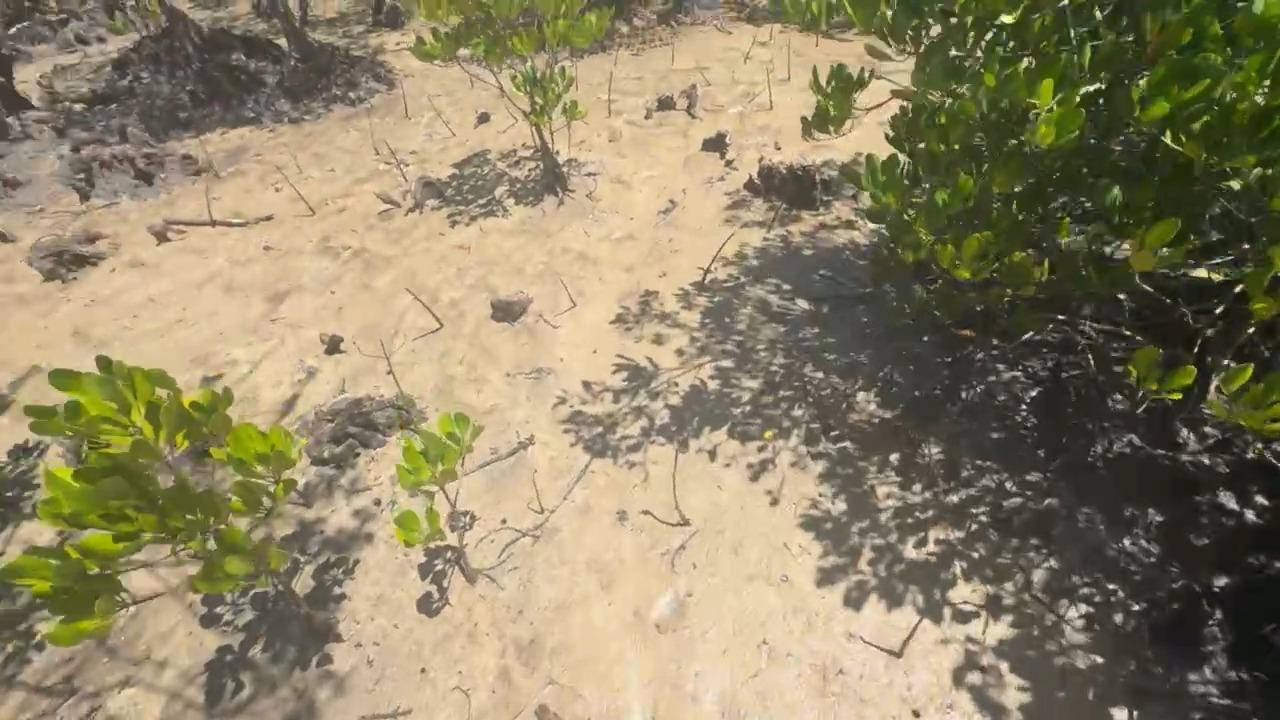Tree: (394, 411, 486, 583), (898, 596, 943, 660), (700, 230, 737, 286), (275, 166, 316, 215), (406, 287, 444, 328), (673, 446, 692, 525), (380, 340, 403, 395), (428, 95, 456, 137), (384, 140, 407, 183), (199, 135, 221, 179), (366, 105, 380, 154), (766, 200, 785, 234), (559, 276, 578, 308), (204, 185, 216, 226), (533, 475, 544, 515), (745, 30, 757, 64), (399, 76, 408, 118), (765, 66, 772, 110), (698, 64, 711, 86), (608, 70, 614, 115), (614, 39, 622, 67), (787, 40, 791, 80), (574, 57, 578, 92), (671, 36, 676, 63), (814, 26, 820, 47), (770, 18, 775, 42)
